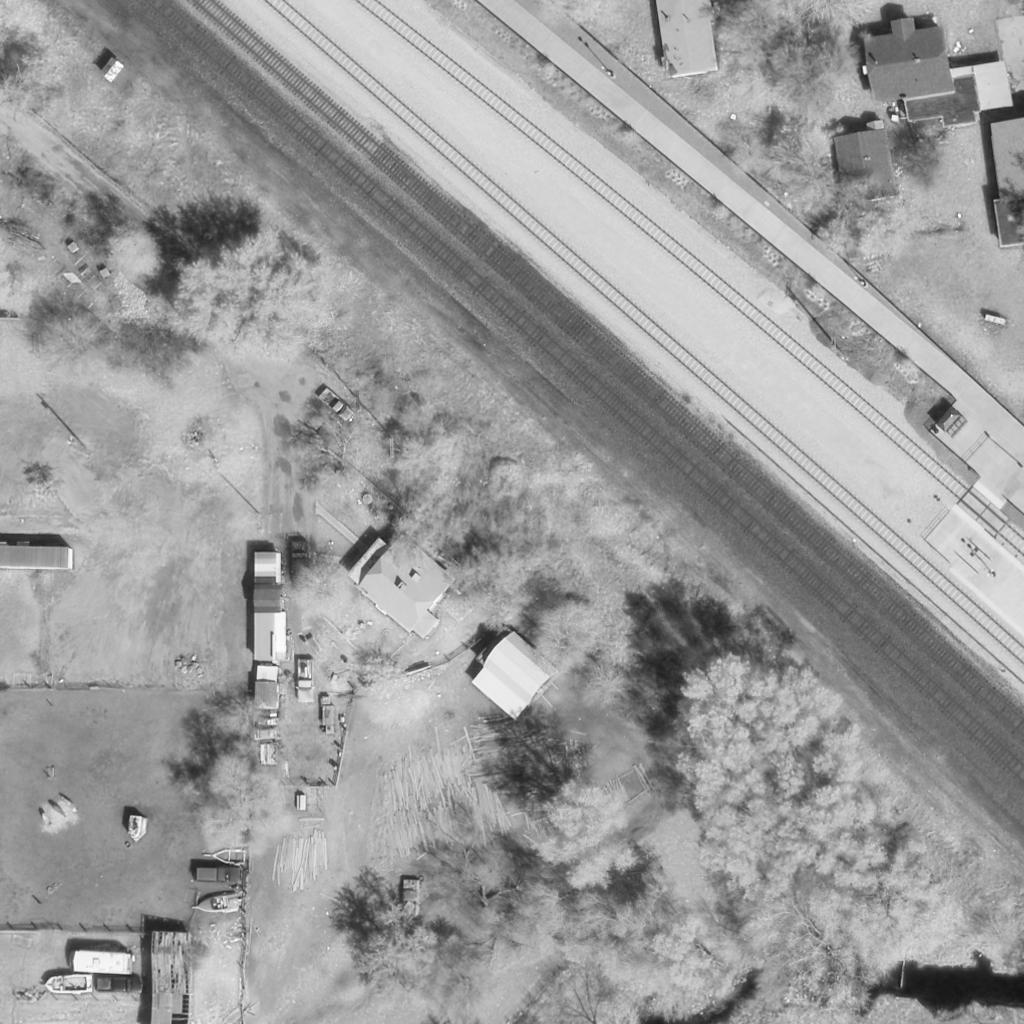vehicle: (70, 951, 136, 975), (318, 386, 356, 422), (43, 974, 93, 996), (194, 865, 242, 885), (290, 541, 310, 585), (96, 976, 144, 994), (297, 658, 315, 704), (198, 895, 240, 913)
